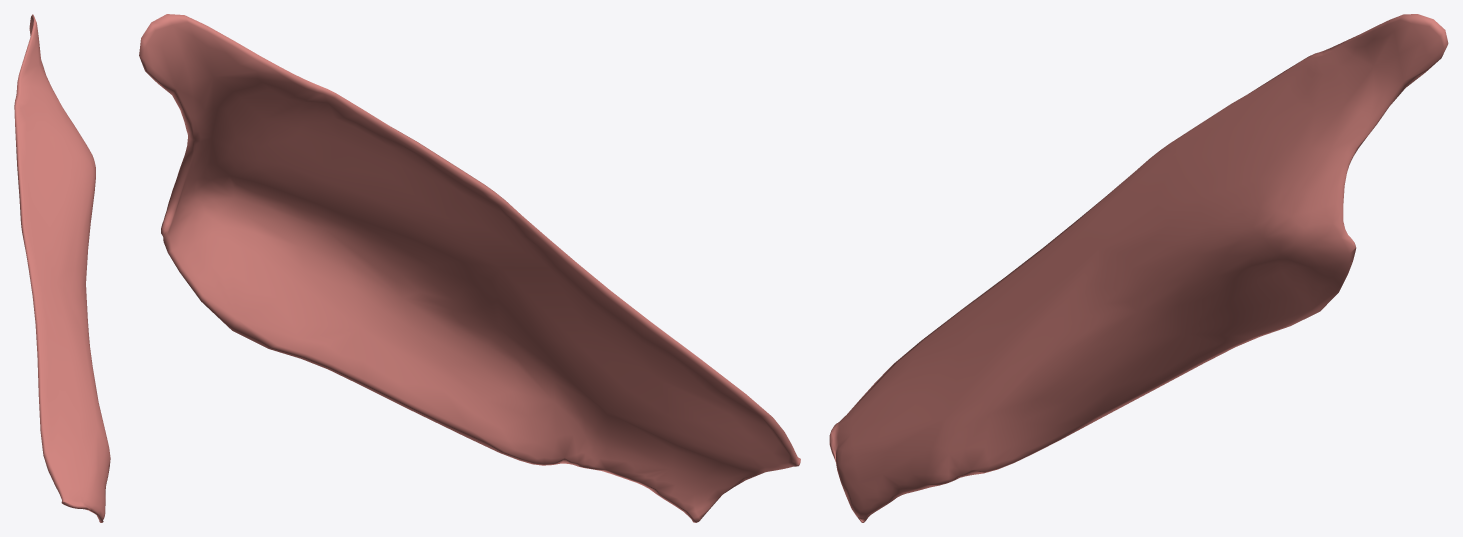
3 renders of one model, left to right at view 1: azimuth 30°, elevation 25°; view 2: azimuth 150°, elevation 25°; view 3: azimuth 270°, elevation 25°, orthographic. The views are drawn at different scales.
Parts seen in each view (by area): view 1: ZA_7b559ac76c42532a; view 2: ZA_7b559ac76c42532a; view 3: ZA_7b559ac76c42532a.
Boxes of the visible parts, x1,y1,x2,y2 form: ZA_7b559ac76c42532a: [14, 14, 110, 522]; ZA_7b559ac76c42532a: [139, 14, 800, 522]; ZA_7b559ac76c42532a: [829, 14, 1448, 522].
Bounding box in the file's own units: 0.0207 × 0.0406 × 0.0386.
